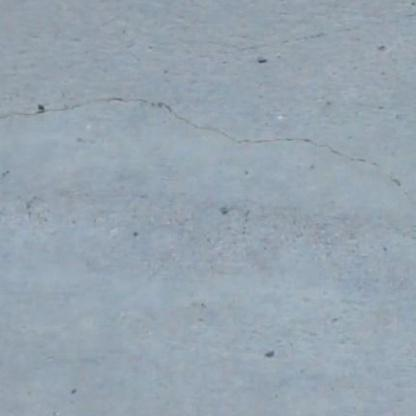Cracks: (0, 84, 416, 229)
